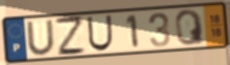1: (125, 14, 141, 49)
3: (148, 11, 171, 48)
Q: (173, 8, 206, 47)
U: (25, 18, 57, 57), (86, 14, 115, 53)
Z: (53, 16, 88, 58)
